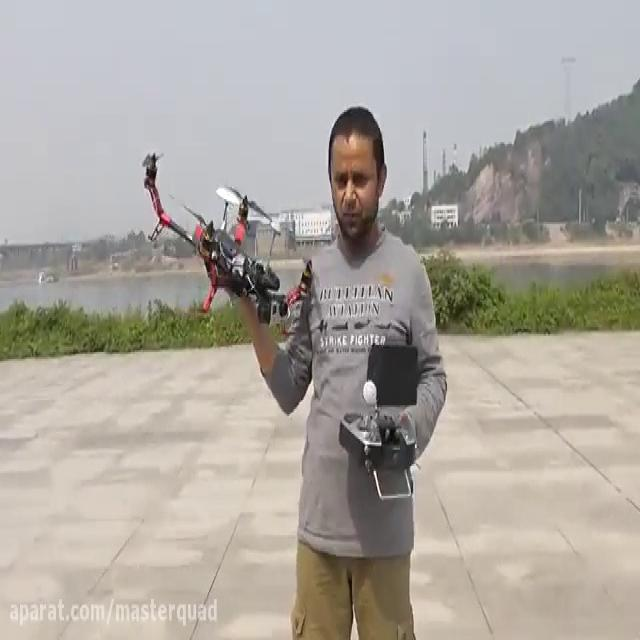drone: (139, 142, 315, 331)
